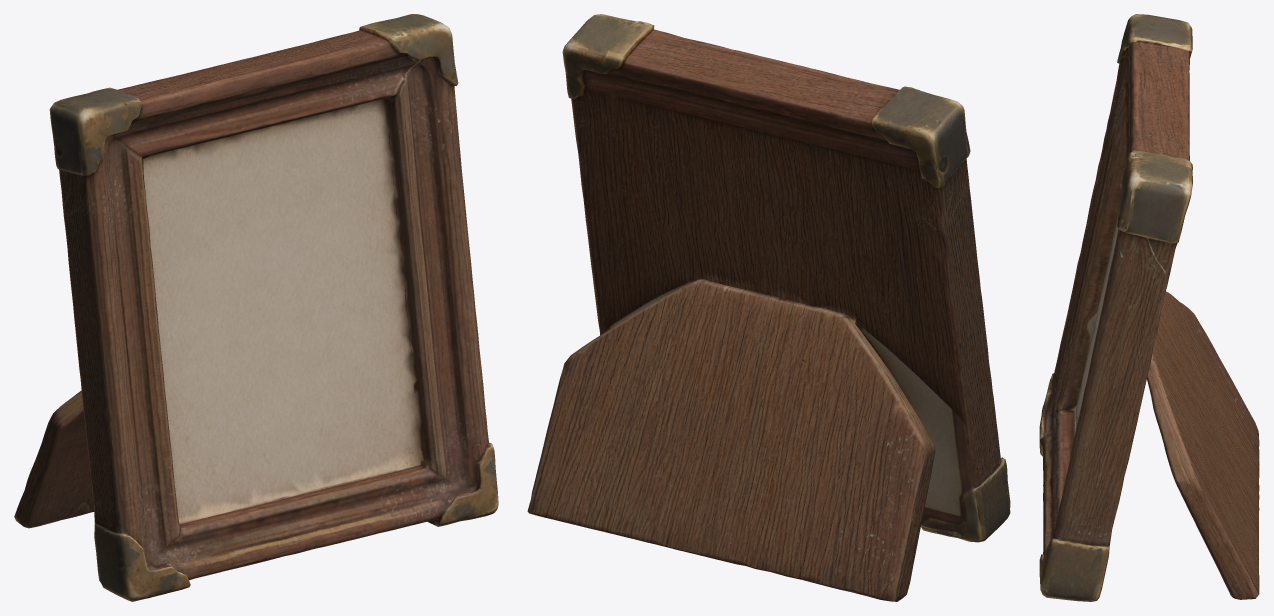
File: Prop_PhotoFrame_1.fbx
3 views of the same model, side by side, from view 1: azimuth 30°, elevation 25°; view 2: azimuth 150°, elevation 25°; view 3: azimuth 270°, elevation 25° (orthographic). The views are drawn at different scales.
Visible parts, largest first — view 1: texture_mapping; view 2: texture_mapping; view 3: texture_mapping.
Boxes of the visible parts, x1,y1,x2,y2 form: texture_mapping: (14, 14, 498, 601); texture_mapping: (527, 14, 1010, 601); texture_mapping: (1039, 14, 1259, 601).
Bounding box in the file's own units: 0.8533 × 0.4668 × 1.
1 material, 1 textured.
